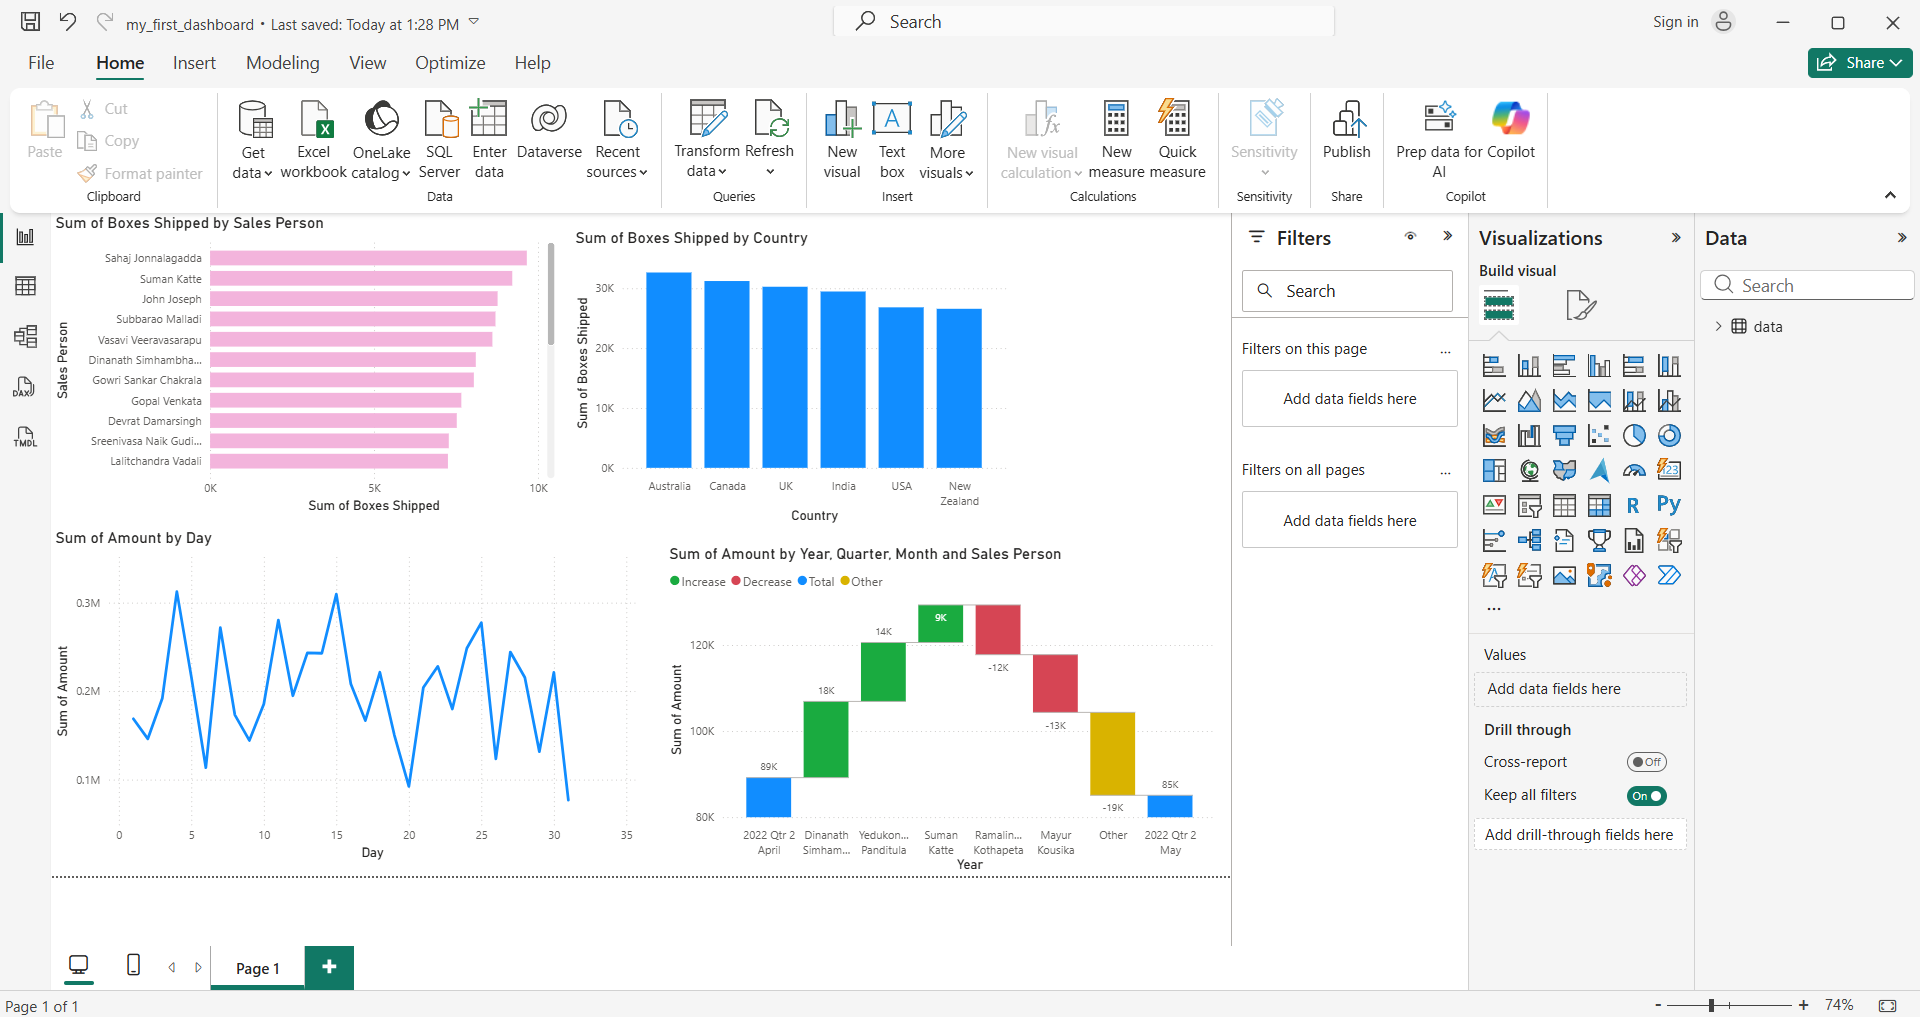

The page's visual inventory and layout, read from the dashboard file:
{"tool":"powerbi","page":{"name":"Page 1","canvas":[1280,720],"ordinal":0},"visuals":[{"type":"barChart","fields":{"Category":["data.Sales Person"],"Y":["Sum(data.Boxes Shipped)"]},"box":[0,0,551.6,330.7],"z":0},{"type":"columnChart","fields":{"Category":["data.Country"],"Y":["Sum(data.Boxes Shipped)"]},"box":[564,16.5,477.5,325.2],"z":1000},{"type":"lineChart","fields":{"Y":["Sum(data.Amount)"],"Category":["data.Date.Variation.Date Hierarchy.Year","data.Date.Variation.Date Hierarchy.Quarter","data.Date.Variation.Date Hierarchy.Month","data.Date.Variation.Date Hierarchy.Day"]},"box":[0,341.7,639.5,365],"z":1001},{"type":"waterfallChart","fields":{"Category":["data.Date.Variation.Date Hierarchy.Year","data.Date.Variation.Date Hierarchy.Quarter","data.Date.Variation.Date Hierarchy.Month"],"Breakdown":["data.Sales Person"],"Y":["Sum(data.Amount)"]},"box":[665.5,359.5,603.8,360.9],"z":1003}]}

Visuals, with their boxes on the page's 1280x720 design canvas (x1, y1, x2, y2). These are canvas units, not pixel positions in the 1920x1017 screenshot, which may show the page scaled, cropped or inside an application window:
barChart - data.Sales Person x Sum(data.Boxes Shipped): Rect(0, 0, 552, 331)
columnChart - data.Country x Sum(data.Boxes Shipped): Rect(564, 16, 1042, 342)
lineChart - Sum(data.Amount) x data.Date.Variation.Date Hierarchy.Year: Rect(0, 342, 640, 707)
waterfallChart - data.Date.Variation.Date Hierarchy.Year x data.Date.Variation.Date Hierarchy.Quarter: Rect(666, 360, 1269, 720)
